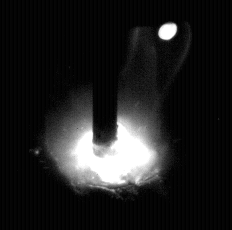arame: (93, 0, 119, 146)
poca: (44, 0, 170, 230)
